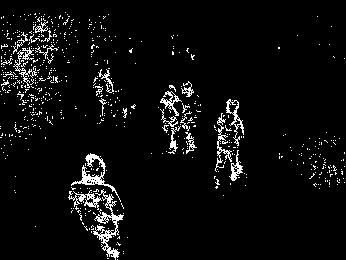person: (66, 153, 128, 260), (209, 96, 247, 188), (178, 79, 203, 156), (158, 82, 183, 154), (90, 66, 119, 125)
